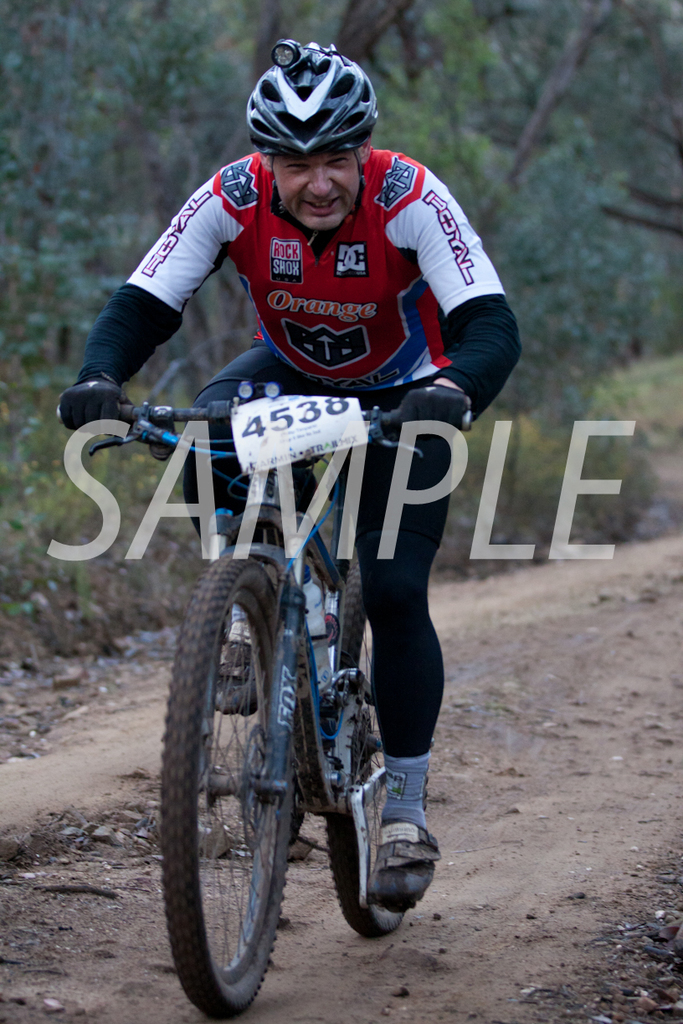Bike_toward: (73, 369, 470, 951)
